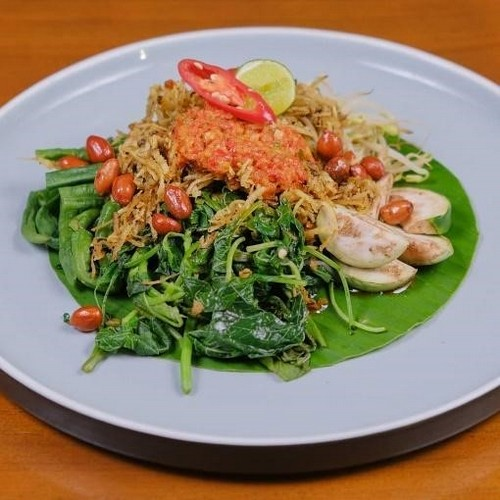serombotan: (39, 76, 455, 383)
